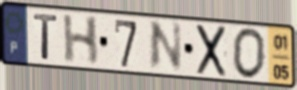7: (113, 18, 139, 69)
H: (61, 14, 101, 67)
N: (147, 19, 184, 72)
O: (230, 26, 267, 81)
T: (32, 12, 60, 62)
X: (195, 22, 228, 79)
